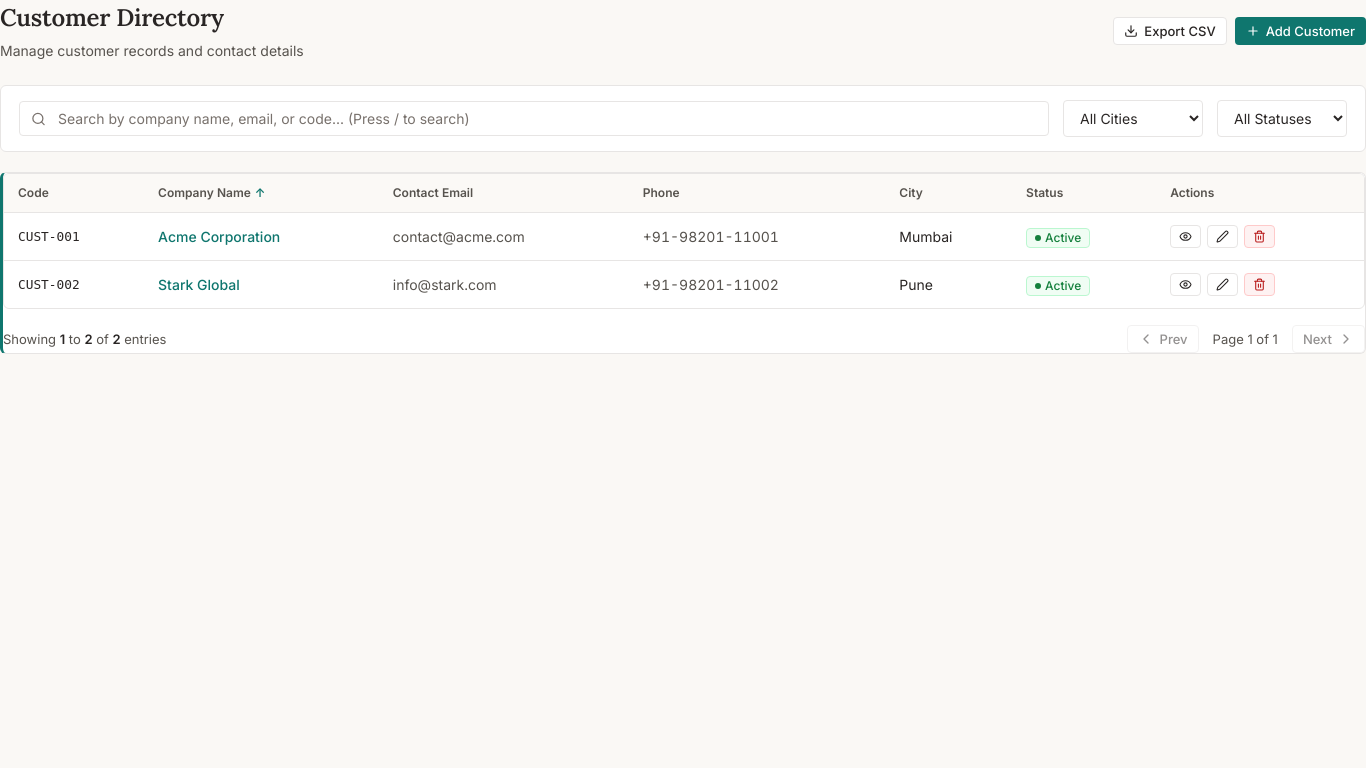
Test case: Customers Directory Component › opens create customer modal when Add Customer button is clicked
Expected: the text "Add Customer" is shown, [1266,22,1355,38]
What coordinates should you click on to do the following:
click the button "Add Customer"
I would click on:
 (1300, 30)
Its box is [1235,16,1365,44].
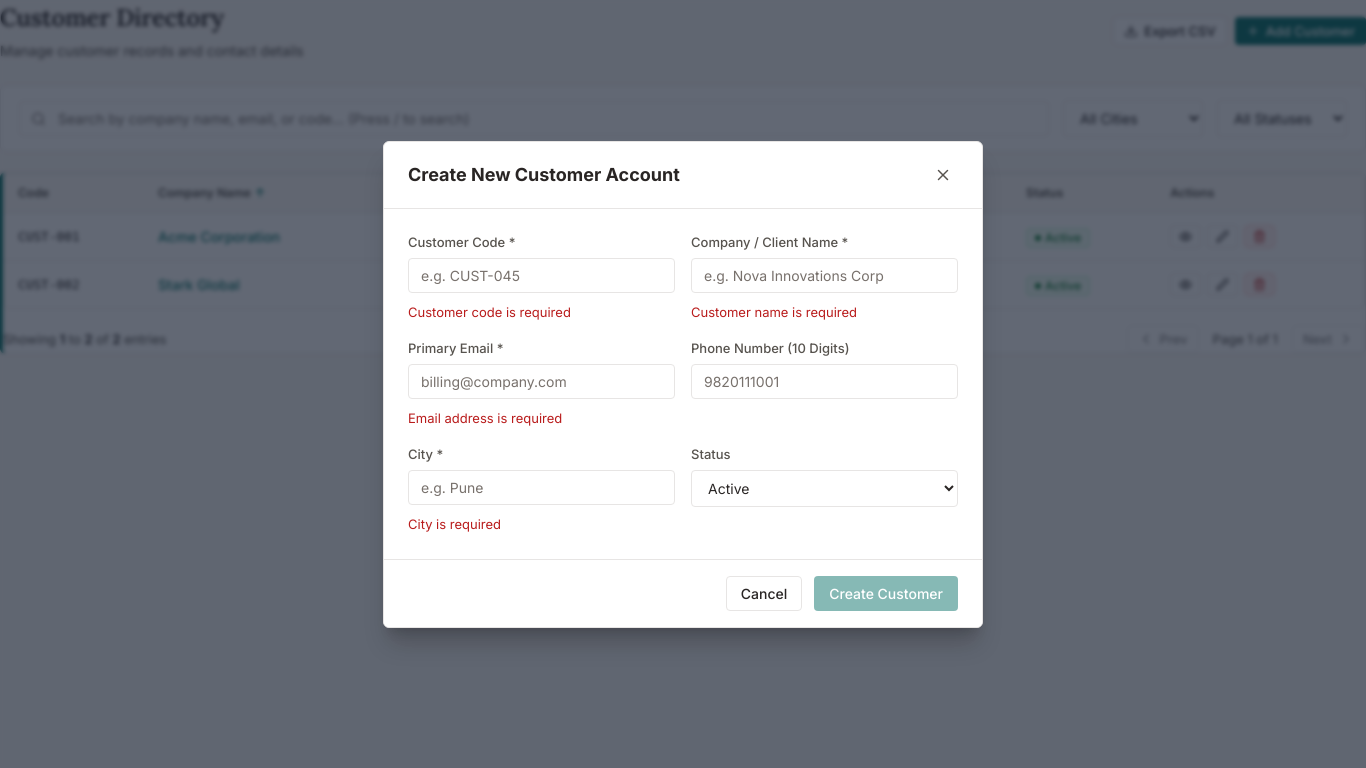
Expected: the heading "Create New Customer Account" is shown, [408,161,680,188]
Expected: the text "Company / Client Name *" is shown, [691,234,848,250]
